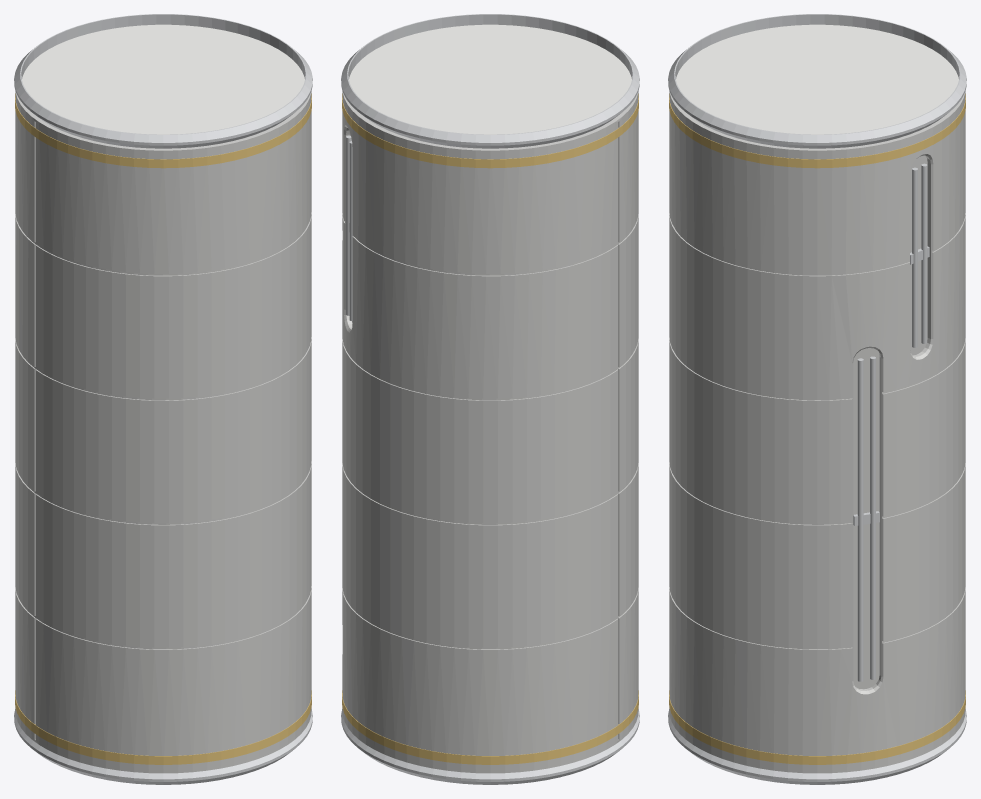
File: ax_tank_05_hydrolox_m_long.glb
3 views of the same model, side by side, from view 1: azimuth 30°, elevation 25°; view 2: azimuth 150°, elevation 25°; view 3: azimuth 270°, elevation 25° (orthographic).
Visible parts, largest first — view 1: mli_blanket, dome_caps, end_rings, blanket_bands; view 2: mli_blanket, dome_caps, end_rings, blanket_bands, raceway_lines; view 3: mli_blanket, dome_caps, end_rings, raceway_lines, blanket_bands.
Part boxes in pixels (box(x1,y1,x2,y2)): mli_blanket: box(15, 91, 311, 773); dome_caps: box(22, 24, 304, 134); end_rings: box(14, 14, 312, 784); blanket_bands: box(15, 94, 311, 764); mli_blanket: box(342, 91, 638, 773); dome_caps: box(349, 24, 631, 134); end_rings: box(341, 14, 639, 784); blanket_bands: box(342, 94, 638, 764); raceway_lines: box(346, 135, 353, 321); mli_blanket: box(669, 91, 965, 773); dome_caps: box(676, 24, 958, 134); end_rings: box(668, 14, 966, 784); raceway_lines: box(853, 163, 929, 681); blanket_bands: box(669, 94, 965, 764).
Bounding box in the file's own units: 2.5 × 6 × 2.5.
